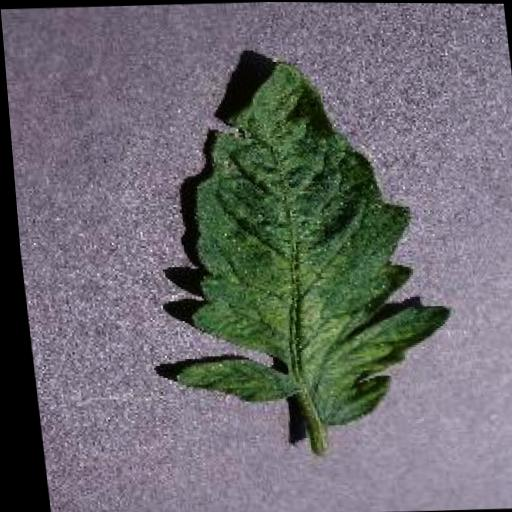Mosaic Virus: (129, 46, 463, 432)
